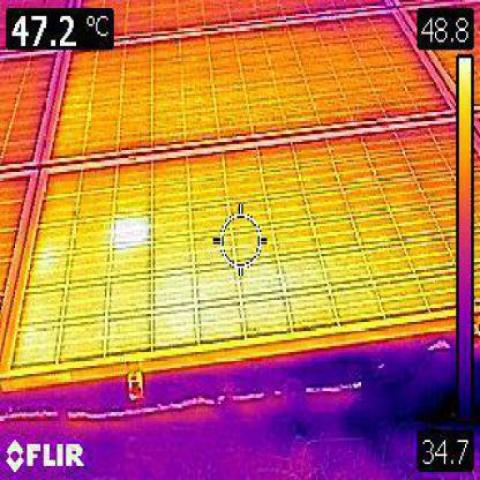fault: (117, 214, 151, 250)
